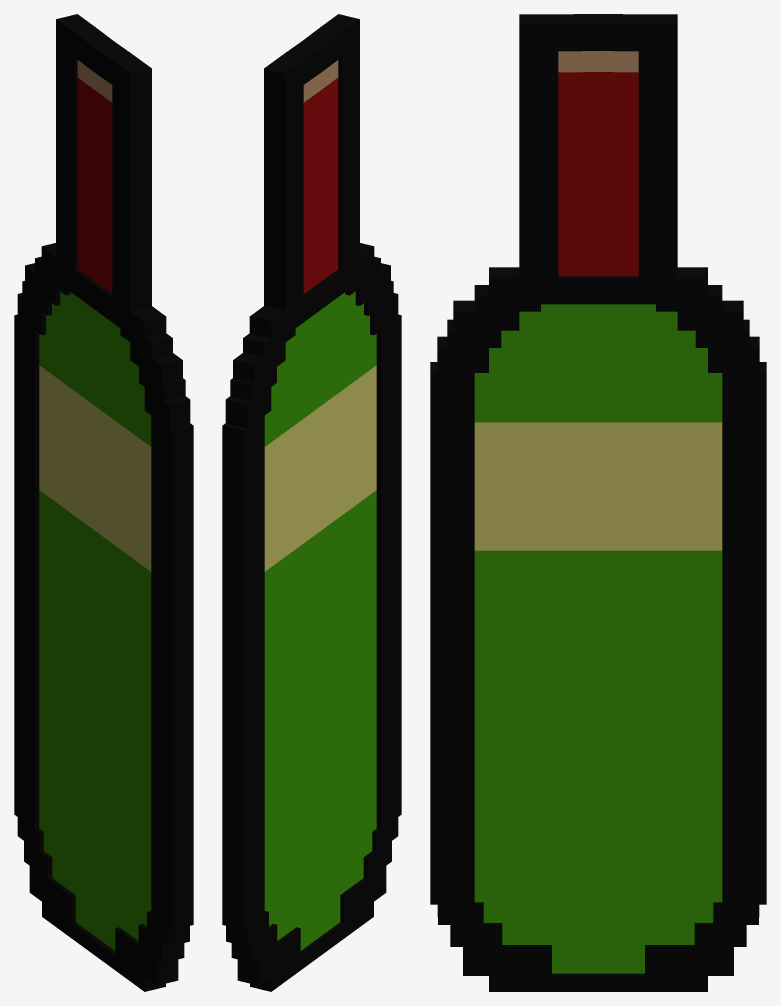
3 renders of one model, left to right at view 1: azimuth 30°, elevation 25°; view 2: azimuth 150°, elevation 25°; view 3: azimuth 270°, elevation 25°, orthographic. The views are drawn at different scales.
Parts seen in each view (by area): view 1: ビン; view 2: ビン; view 3: ビン.
Part boxes in pixels (x1,y1,x2,y2): ビン: (14, 14, 193, 991); ビン: (222, 14, 401, 991); ビン: (430, 14, 766, 991).
Size of the model in its own units: 1.22 by 15.2 by 48.24.
